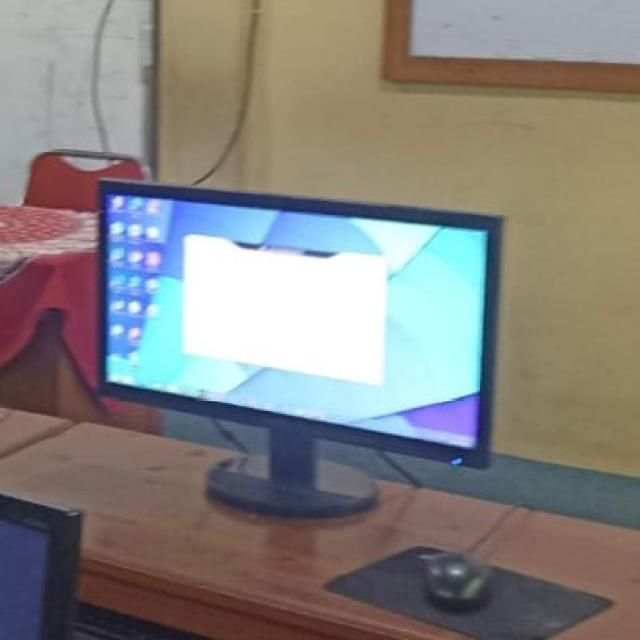onscreen: (101, 183, 501, 466)
